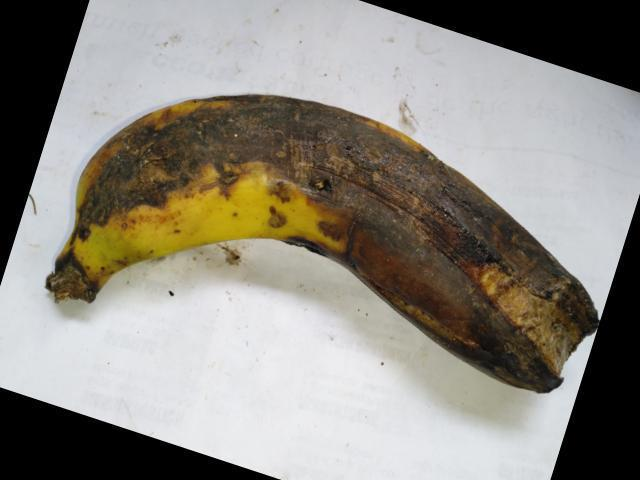rotten: (76, 74, 578, 424)
